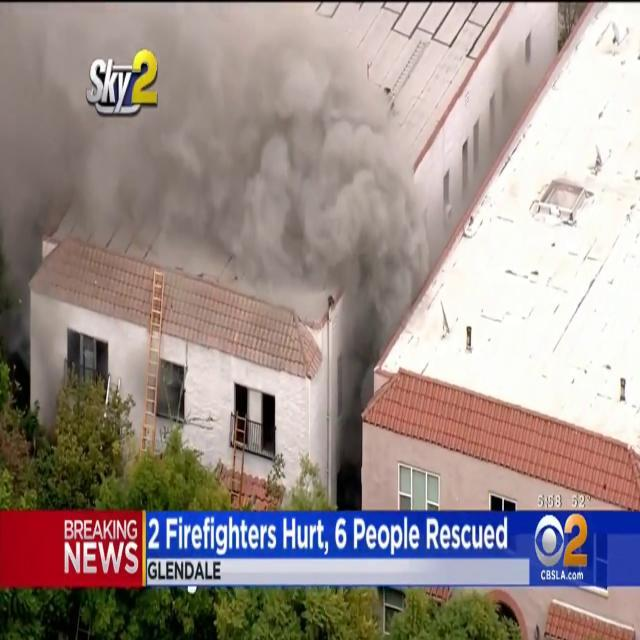Smoke: (222, 23, 432, 444)
